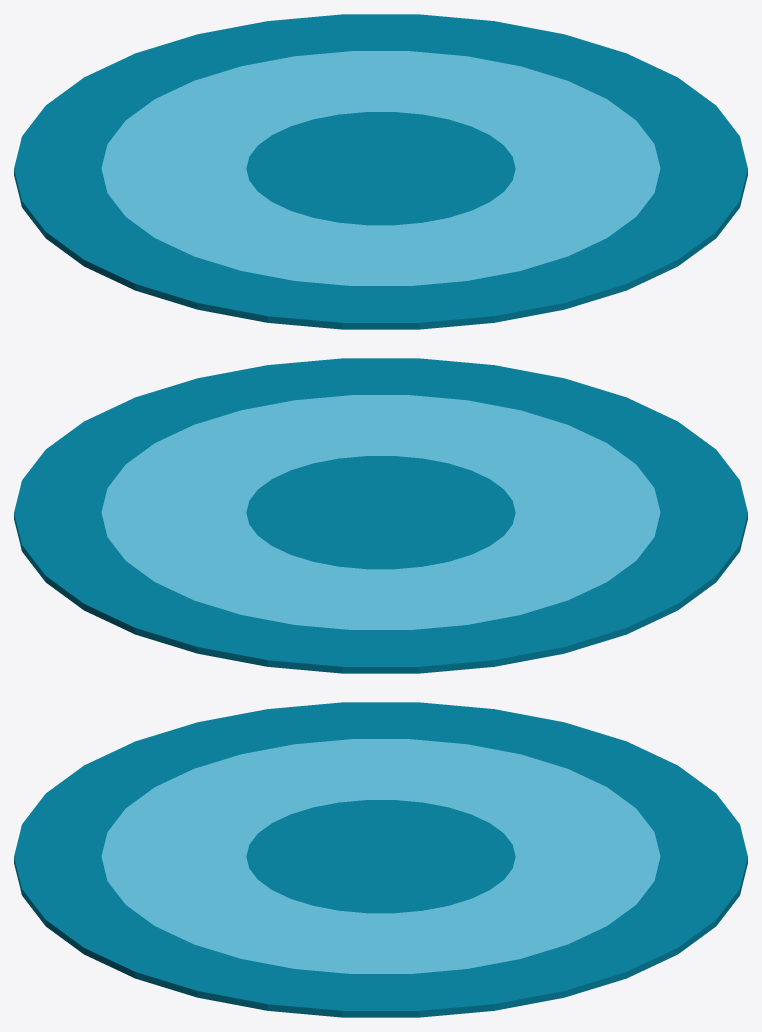
Rendered from Carpet.fbx.
3 views of the same model, one above another, from view 1: azimuth 30°, elevation 25°; view 2: azimuth 150°, elevation 25°; view 3: azimuth 270°, elevation 25° (orthographic).
Visible parts, largest first — view 1: round carpet; view 2: round carpet; view 3: round carpet.
Boxes of the visible parts, left/top/right/bottom form: round carpet: left=14, top=14, right=747, bottom=329; round carpet: left=14, top=358, right=747, bottom=673; round carpet: left=14, top=702, right=747, bottom=1017.
Bounding box in the file's own units: 199 × 2.02 × 200.
